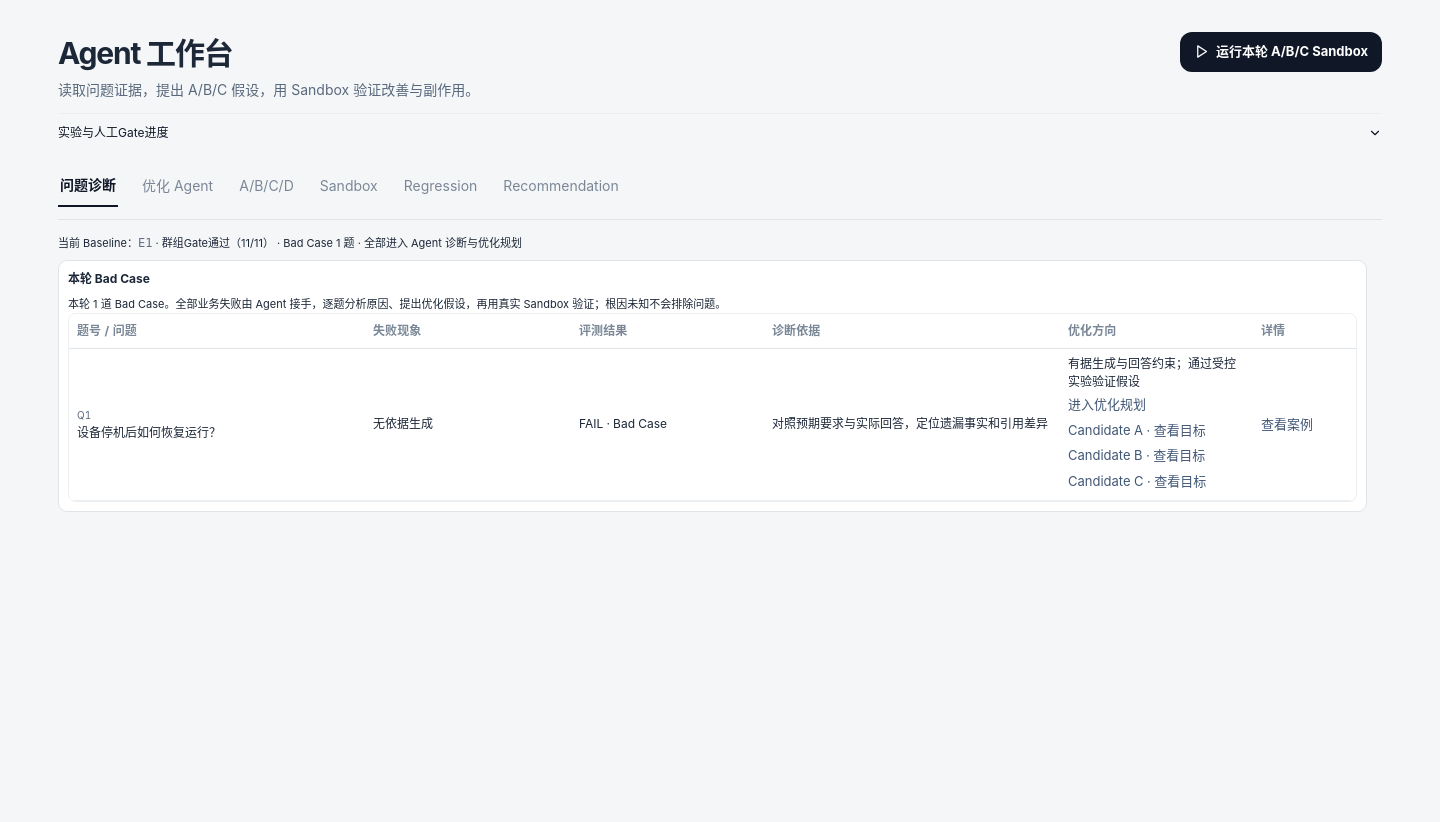
suppresses incomplete final scores, preserves progress and blocks unreconciled paid continuation
Click the button "Sandbox": (349, 186) [318,164,380,207]
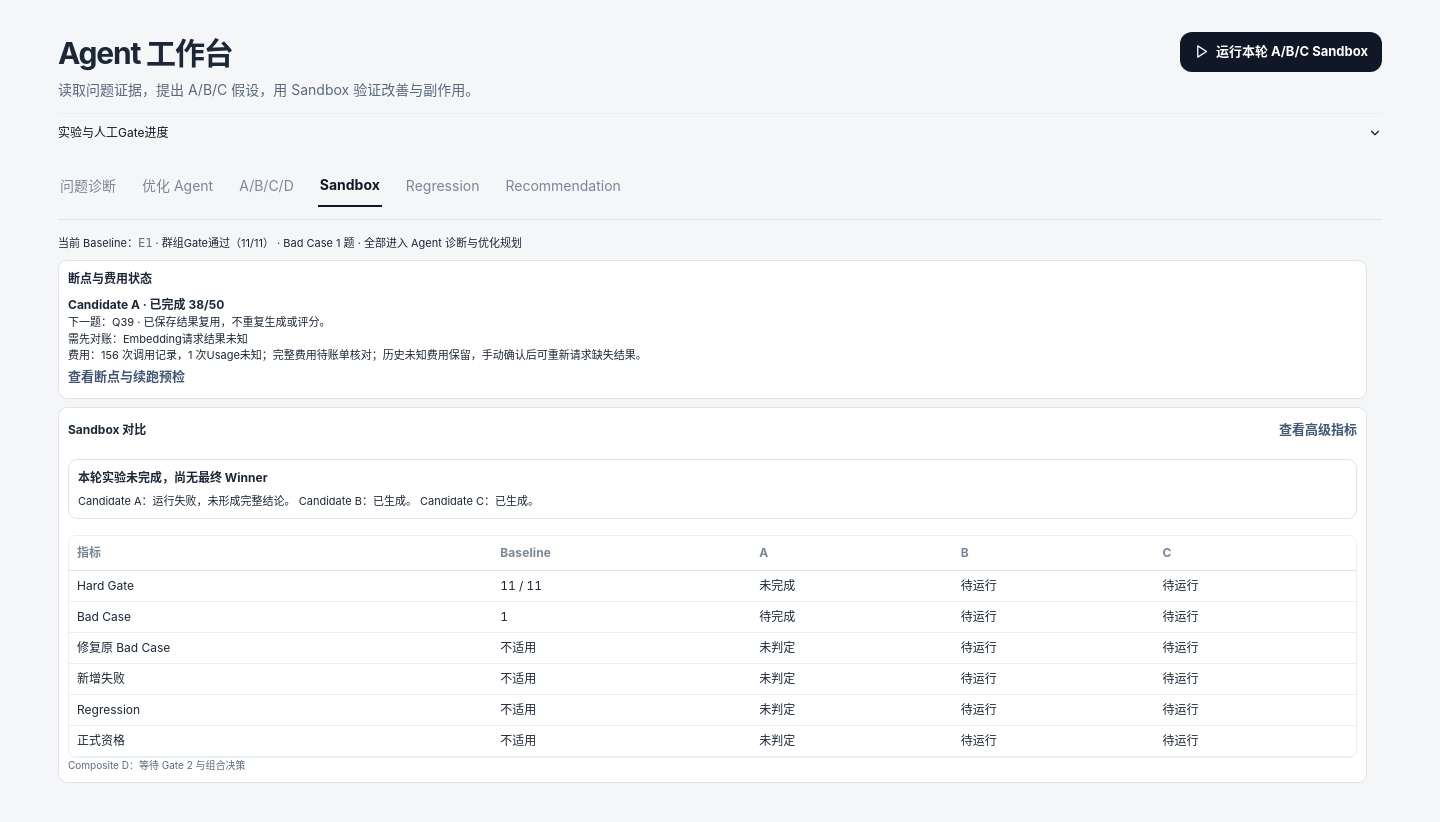
Result: the text "已完成 38/50" is shown at [68,297,224,312]
Result: the text "需先对账" is shown at [68,332,248,346]
Result: the element with class "sandbox-core-table" shows "未完成" at [759,578,795,593]
Click the button "Recommendation": (563, 186) [504,164,623,207]
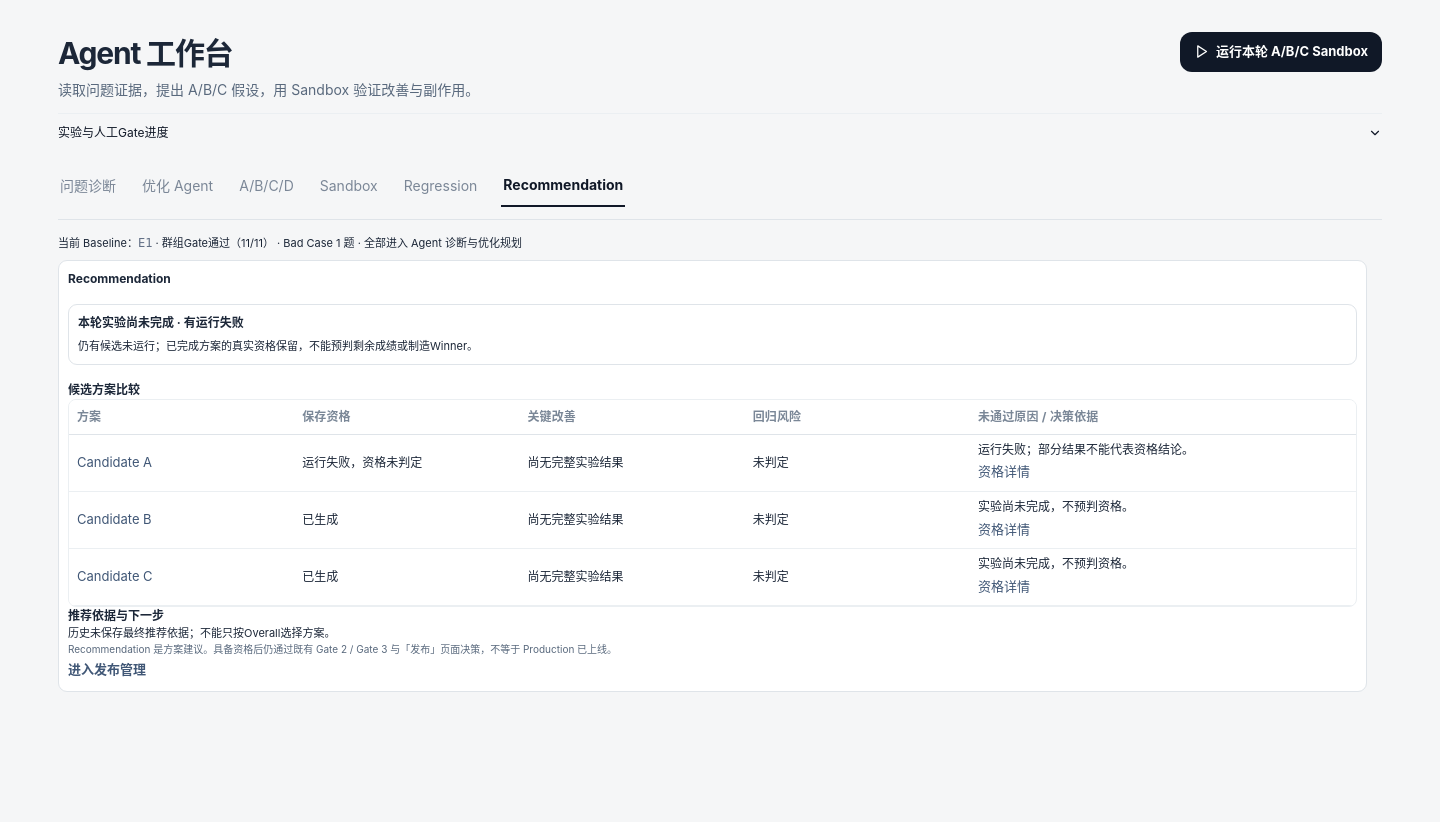
Result: the text "本轮实验尚未完成" is shown at [78,315,244,330]
Click the button "A/B/C/D": (266, 186) [237,164,296,207]
(page scrolled)
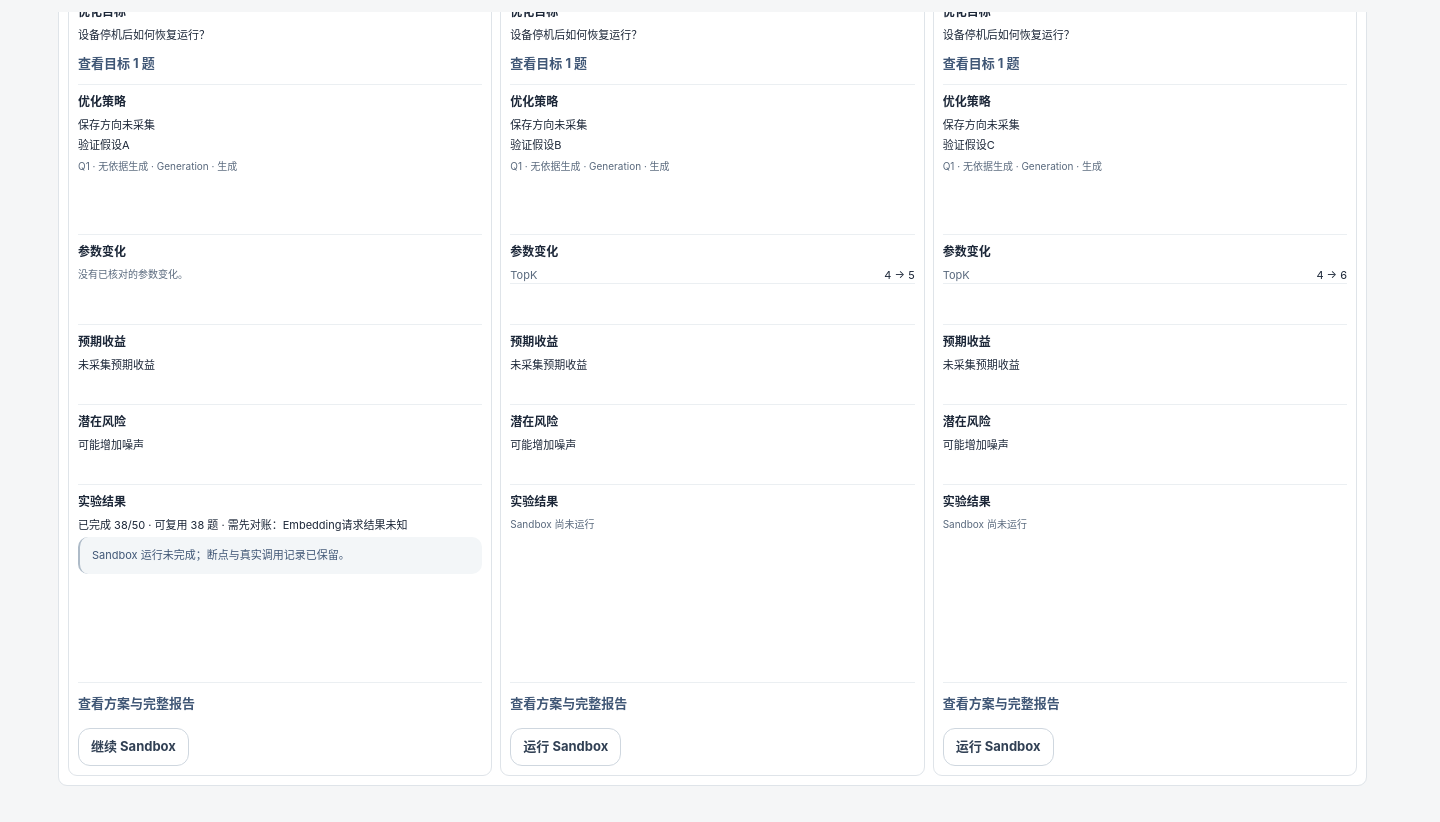
Result: the button "继续 Sandbox" is enabled
Click the button "继续 Sandbox": (133, 747) [78,728,189,766]
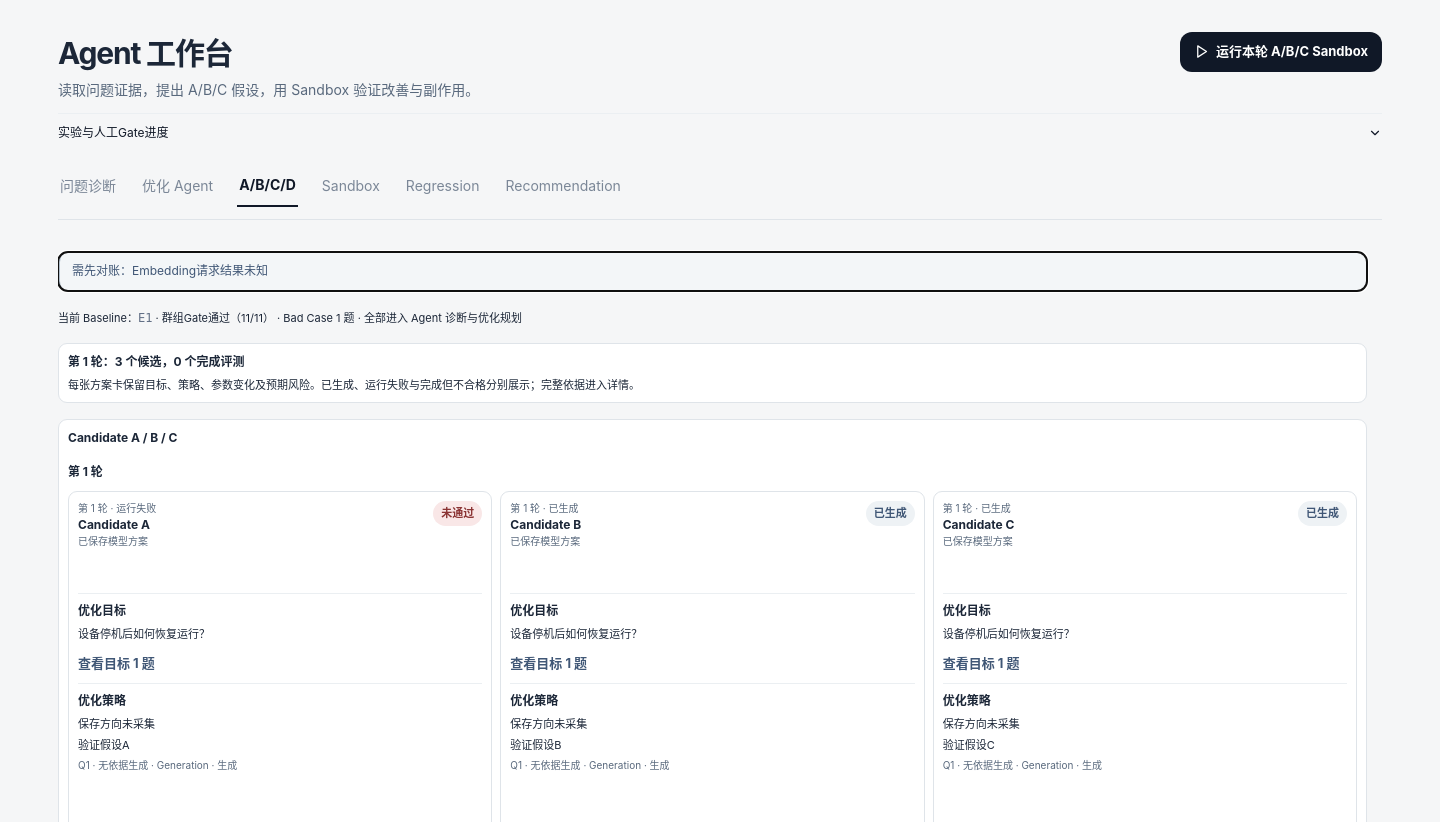
Result: the message "需先对账：Embedding请求结果未知" is shown at [58,252,1367,291]
